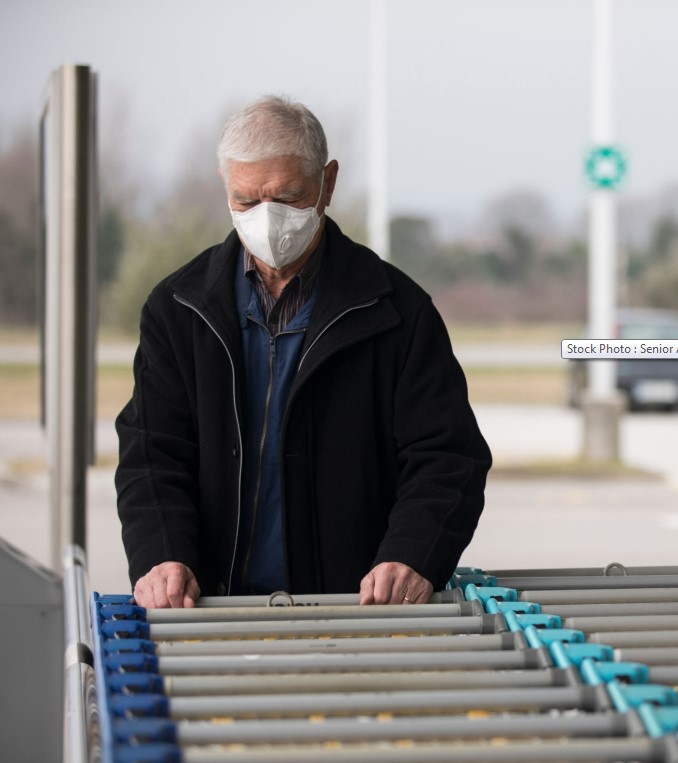face_with_mask: (220, 98, 338, 280)
